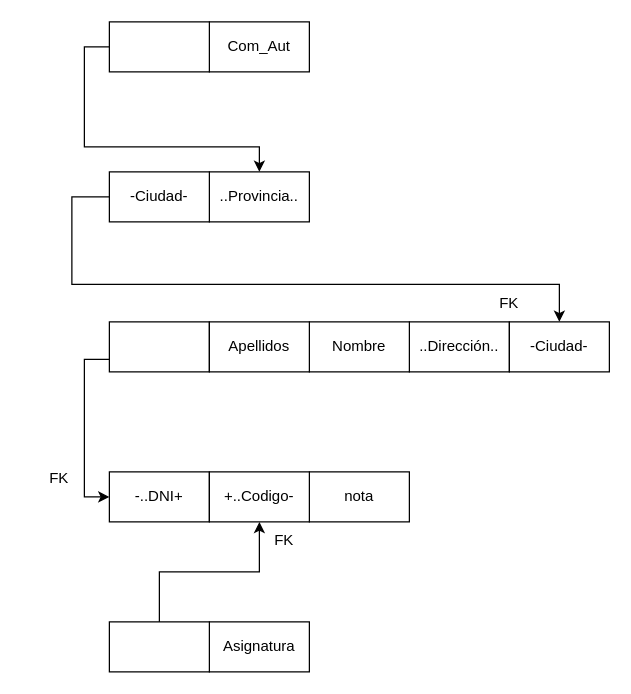
Image size: 631x694. Some labels were removed from this diagram. The shapes that lost their labels are listed below. From the top down, each one's box as (x1, y1, x2, y2) in pixels, then its label:
(108, 21, 209, 72): -Provincia-
(108, 321, 209, 372): -DNI-
(108, 621, 209, 672): -Codigo-
